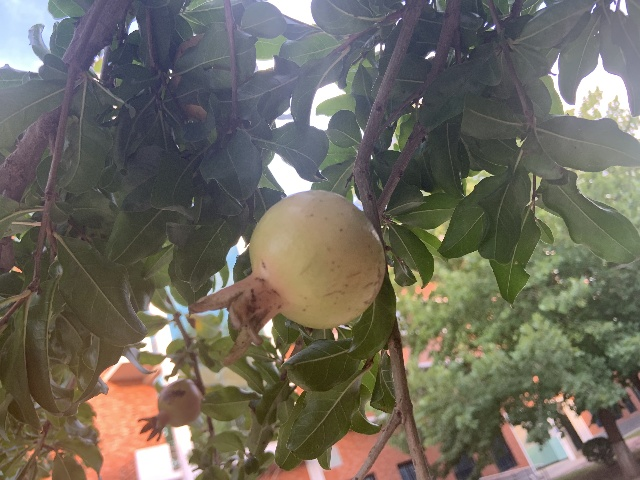mid-growth: (189, 190, 386, 365), (137, 379, 203, 442)
